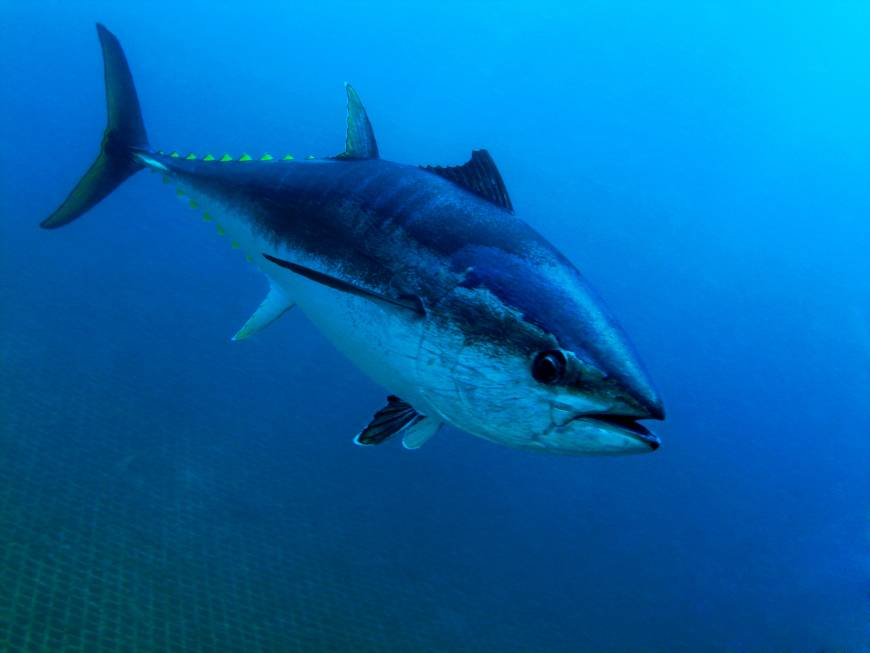Bluefina Tuna: (29, 25, 679, 489)
